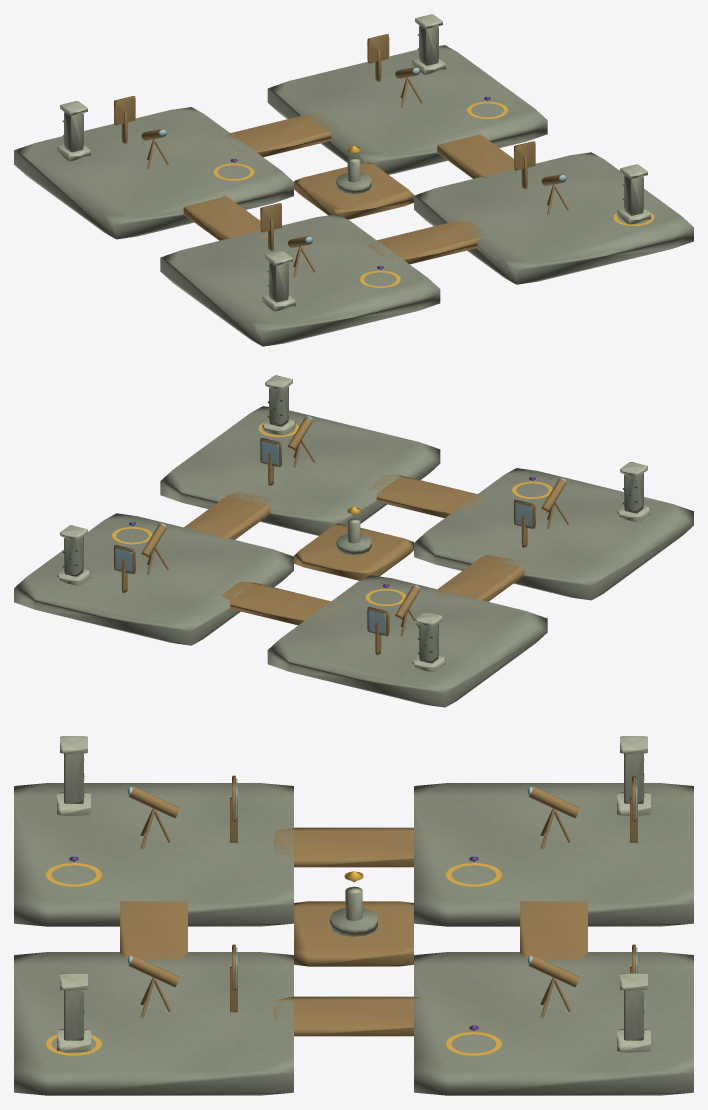
Rendered from observatory_restored.glb.
3 renders of one model, top to bottom at view 1: azimuth 30°, elevation 25°; view 2: azimuth 150°, elevation 25°; view 3: azimuth 270°, elevation 25°, orthographic. The views are drawn at different scales.
Parts seen in each view (by area): view 1: observatory_restored_StaticBatch; view 2: observatory_restored_StaticBatch; view 3: observatory_restored_StaticBatch.
Boxes of the visible parts, bbox=[...] form: observatory_restored_StaticBatch: bbox=[14, 14, 693, 346]; observatory_restored_StaticBatch: bbox=[14, 375, 693, 707]; observatory_restored_StaticBatch: bbox=[14, 736, 693, 1095].
Size of the model in its own units: 17 by 2.53 by 17.
1 material, 1 textured.
